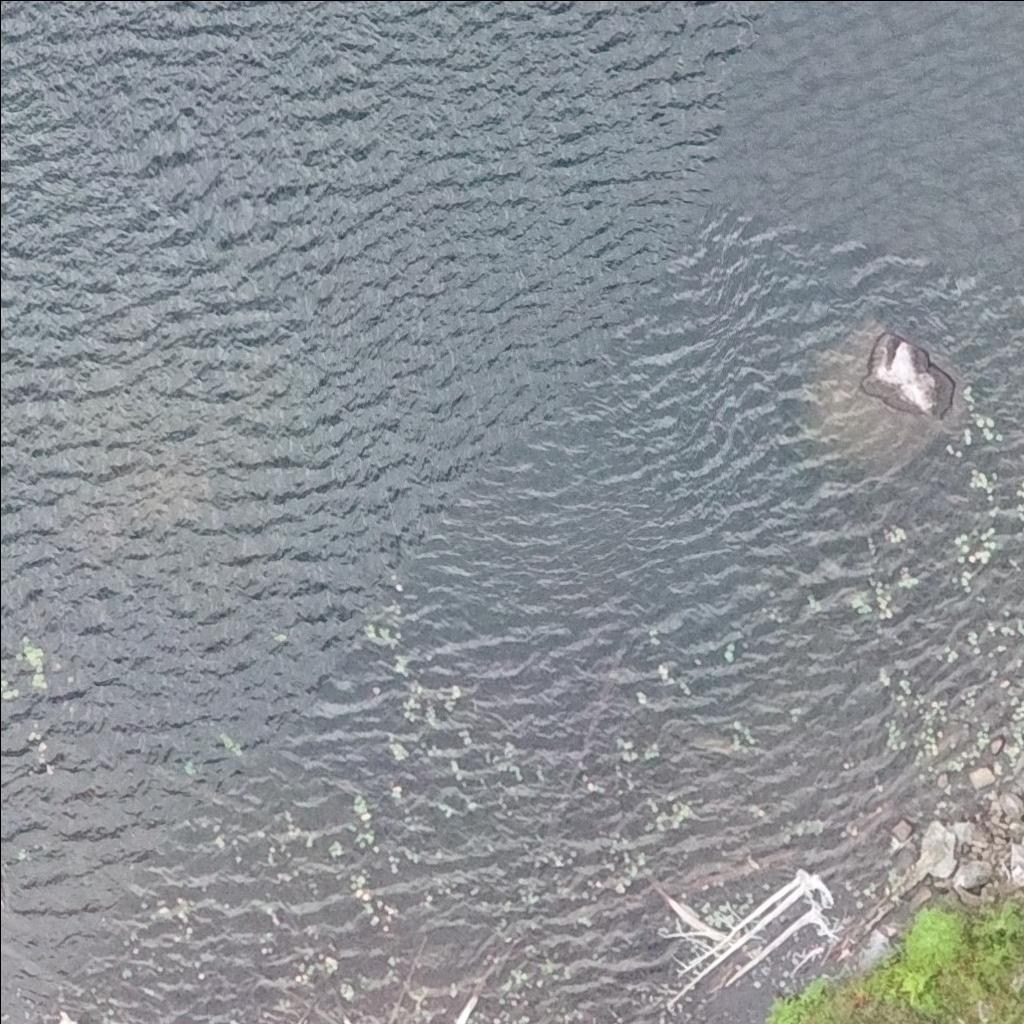crown: (908, 907, 972, 977)
